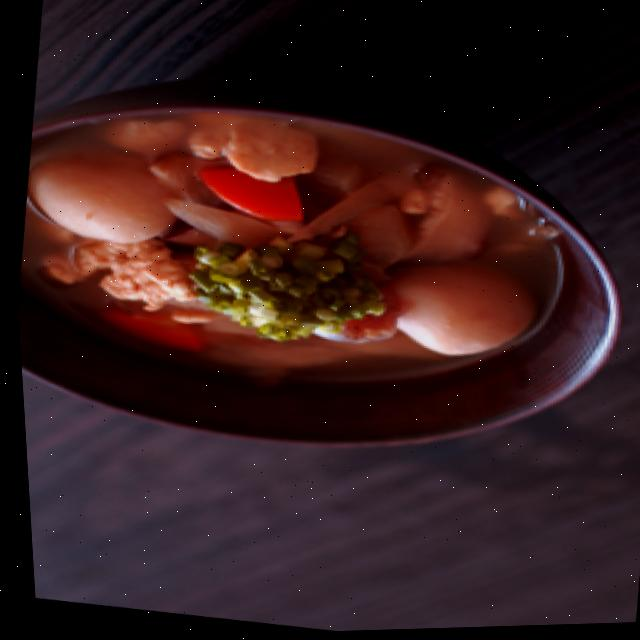蔬菜料理: (2, 20, 640, 484)
